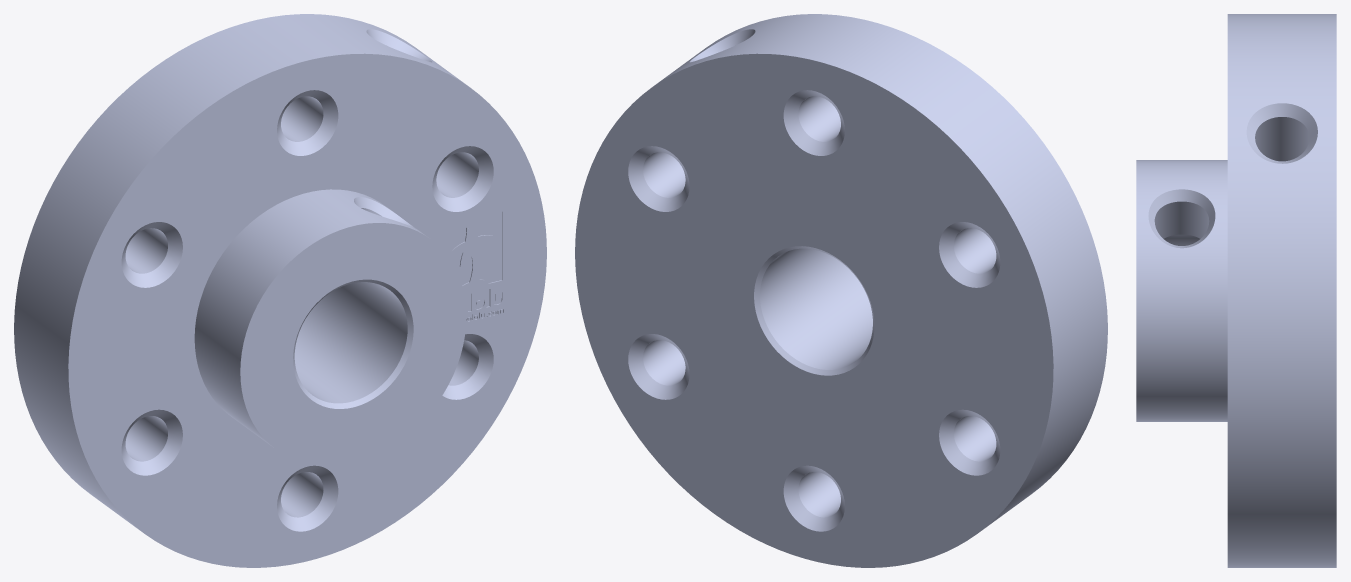
Rendered from hub.glb.
3 renders of one model, left to right at view 1: azimuth 30°, elevation 25°; view 2: azimuth 150°, elevation 25°; view 3: azimuth 270°, elevation 25°, orthographic.
Visible parts, largest first — view 1: pololu-universal-aluminum-mounting-hub-for-6mm-shaft-4-40-ho; view 2: pololu-universal-aluminum-mounting-hub-for-6mm-shaft-4-40-ho; view 3: pololu-universal-aluminum-mounting-hub-for-6mm-shaft-4-40-ho.
Part boxes in pixels (x1=…): pololu-universal-aluminum-mounting-hub-for-6mm-shaft-4-40-ho: x1=14, y1=14, x2=546, y2=567; pololu-universal-aluminum-mounting-hub-for-6mm-shaft-4-40-ho: x1=575, y1=14, x2=1107, y2=567; pololu-universal-aluminum-mounting-hub-for-6mm-shaft-4-40-ho: x1=1136, y1=14, x2=1336, y2=567.
Bounding box in the file's own units: 0.0254 × 0.0254 × 0.0092.
